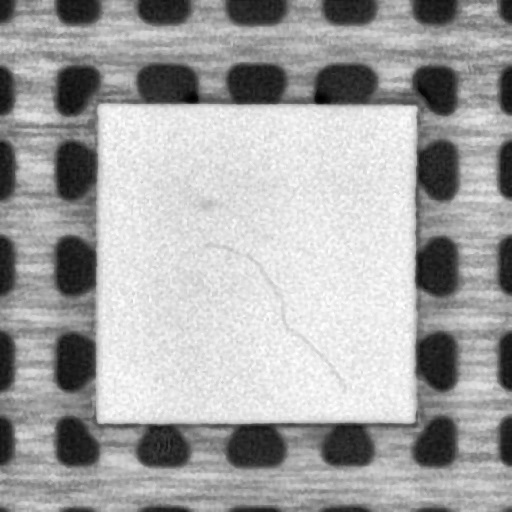DIE_CRACK: (202, 236, 343, 392)
